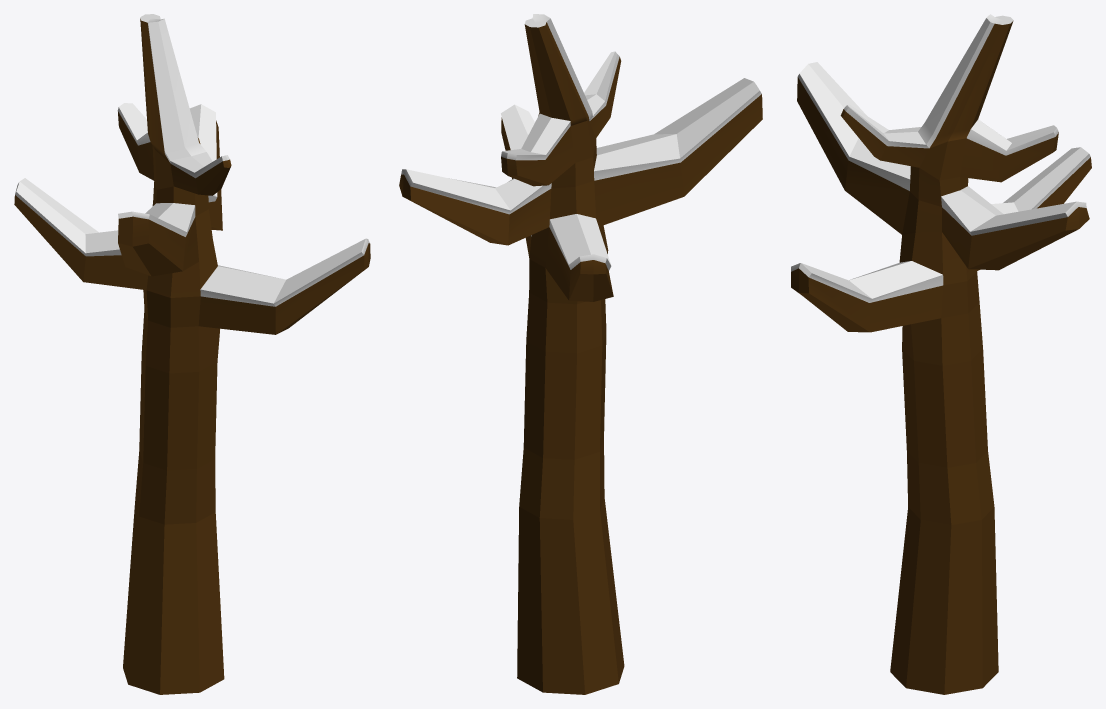
The model's file is Tree_branch_Snow.fbx.
The picture shows the model from 3 angles, left to right: view 1: azimuth 30°, elevation 25°; view 2: azimuth 150°, elevation 25°; view 3: azimuth 270°, elevation 25°; orthographic projection. The views are drawn at different scales.
Visible parts, largest first — view 1: Tree_branch_Snow:Tree_Branch_snow; view 2: Tree_branch_Snow:Tree_Branch_snow; view 3: Tree_branch_Snow:Tree_Branch_snow.
Boxes of the visible parts, box(x1,y1,x2,y2) form: Tree_branch_Snow:Tree_Branch_snow: box(14, 14, 370, 694); Tree_branch_Snow:Tree_Branch_snow: box(399, 14, 762, 694); Tree_branch_Snow:Tree_Branch_snow: box(791, 14, 1091, 694).
Size of the model in its own units: 2.37 by 5.76 by 2.39.
